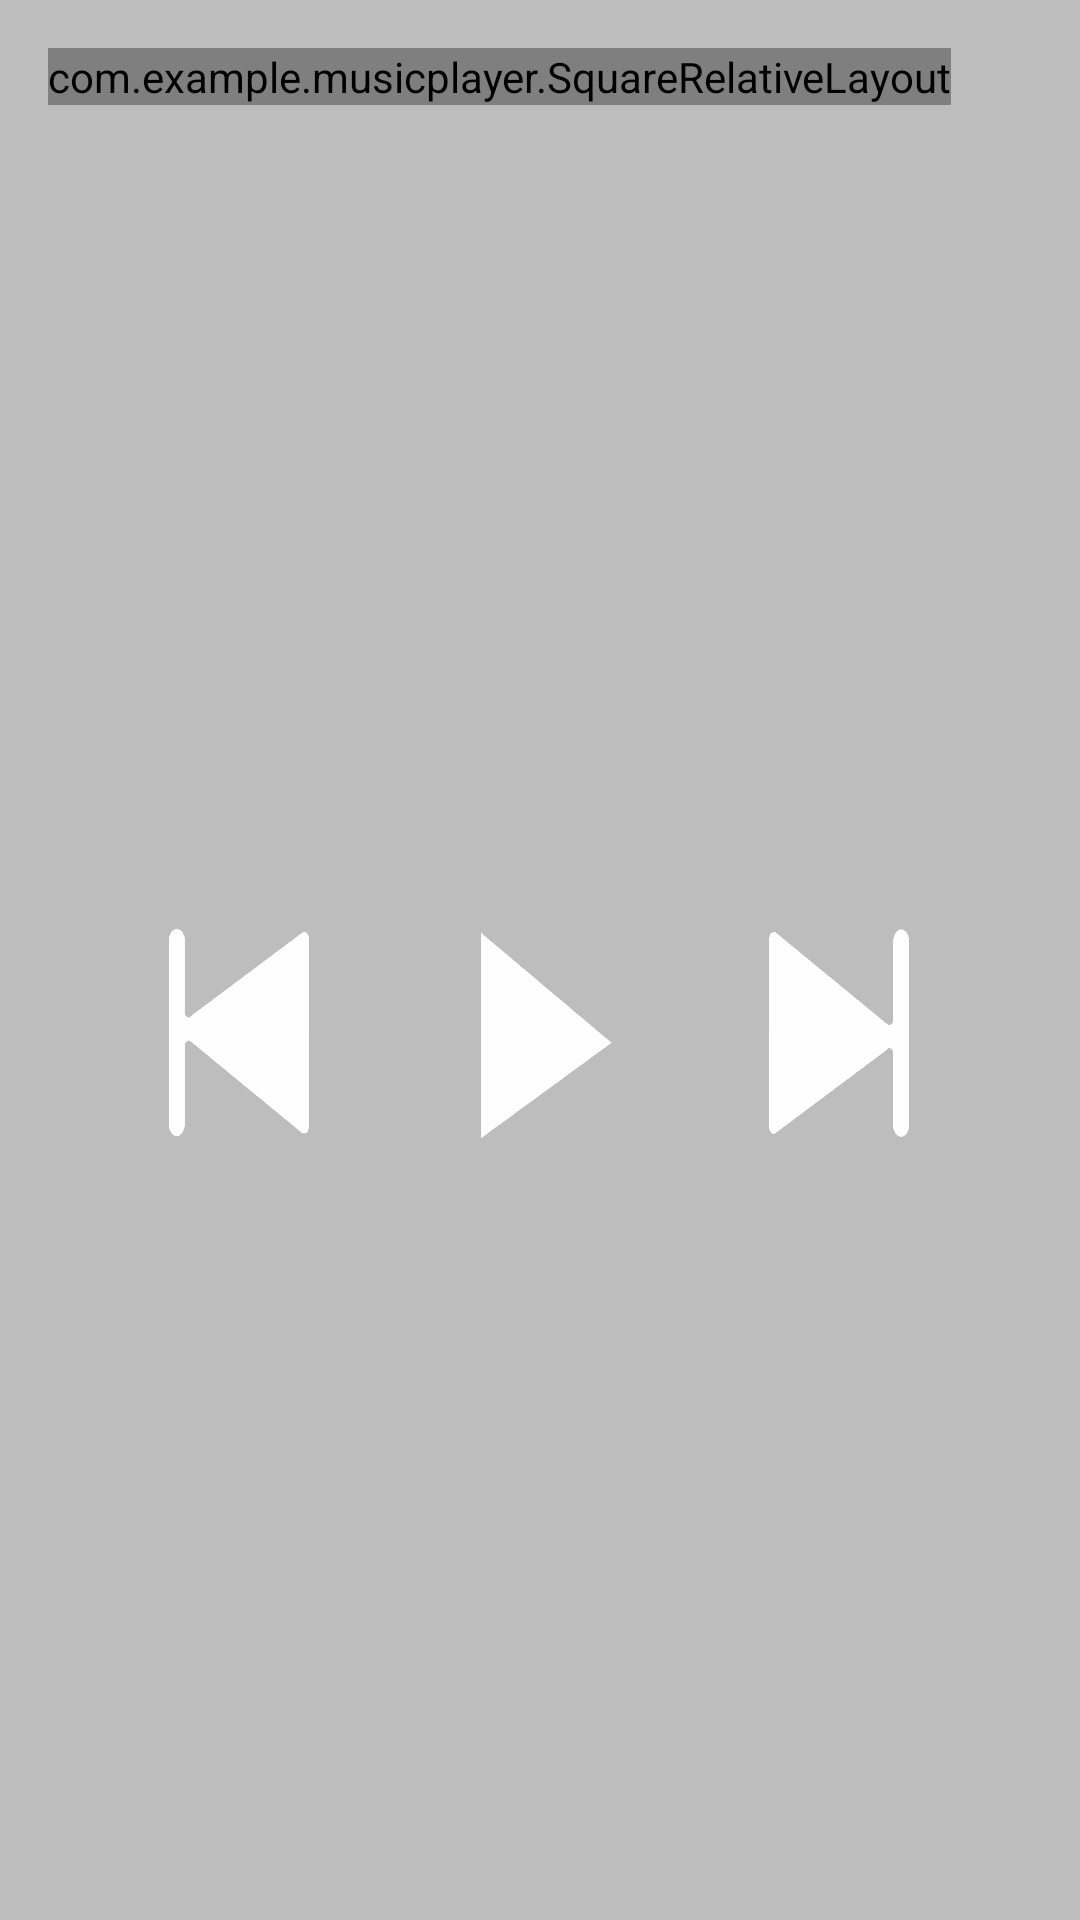

Screen size 1080px x 1920px. Icon name, then its center in pixels as point (x, y):
backward: point (239, 1032)
forward: point (839, 1033)
play: point (546, 1035)
